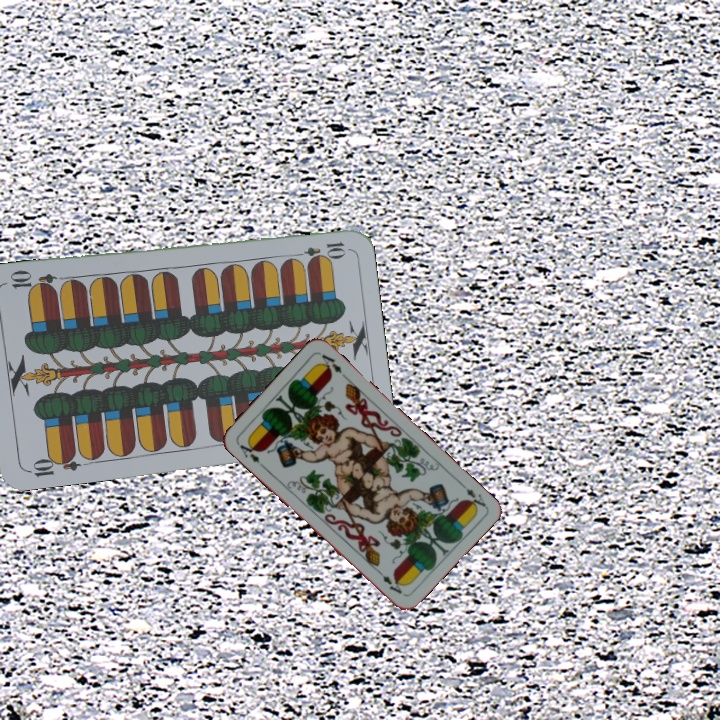E10: (23, 449, 82, 480), (289, 238, 348, 262)
EA: (455, 478, 489, 513), (233, 437, 267, 470)
